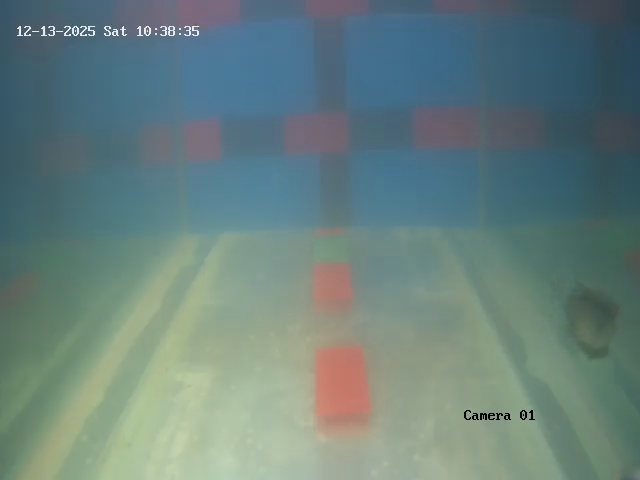fish: (554, 277, 616, 360)
